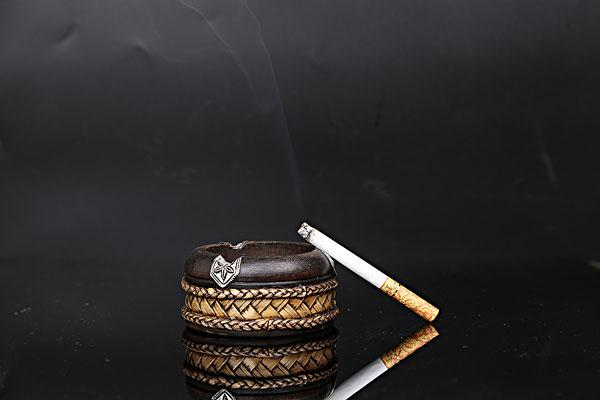smoke: (293, 205, 442, 324), (281, 325, 464, 399)
